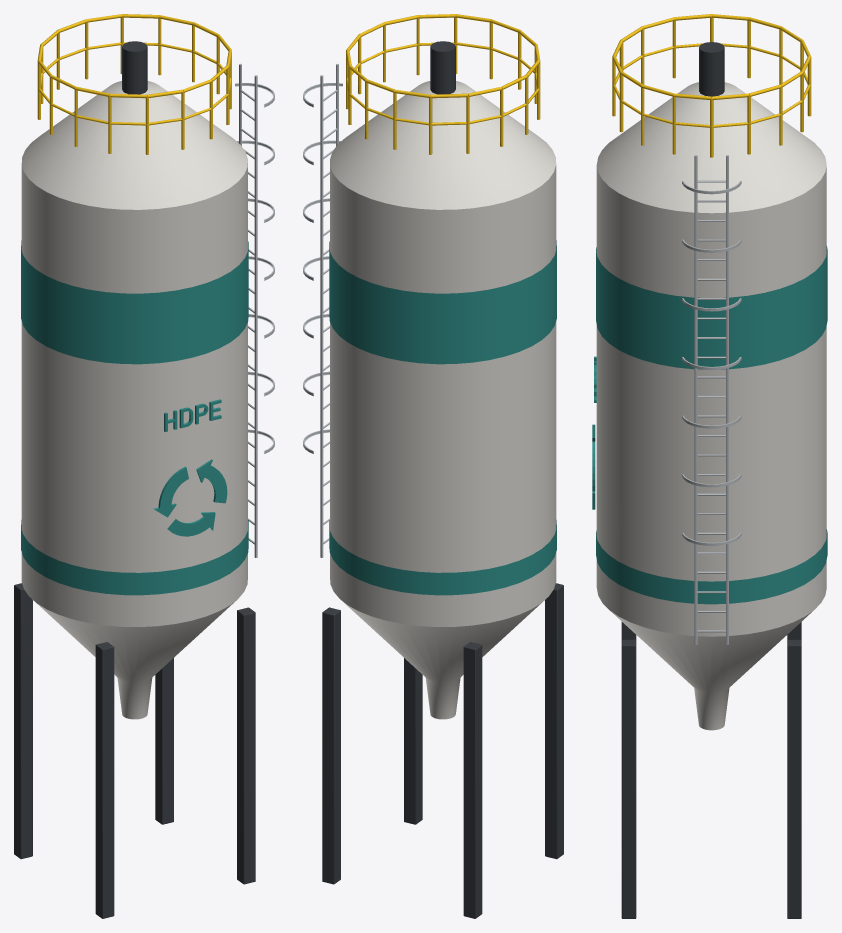
Rendered from silo_teal.fbx.
3 renders of one model, left to right at view 1: azimuth 30°, elevation 25°; view 2: azimuth 150°, elevation 25°; view 3: azimuth 270°, elevation 25°, orthographic.
Visible parts, largest first — view 1: silo_teal; view 2: silo_teal; view 3: silo_teal.
Part boxes in pixels (x1,y1,x2,y2): silo_teal: (14, 14, 274, 918); silo_teal: (303, 14, 563, 918); silo_teal: (592, 14, 827, 918).
Bounding box in the file's own units: 3.83 × 12.8 × 3.27.
